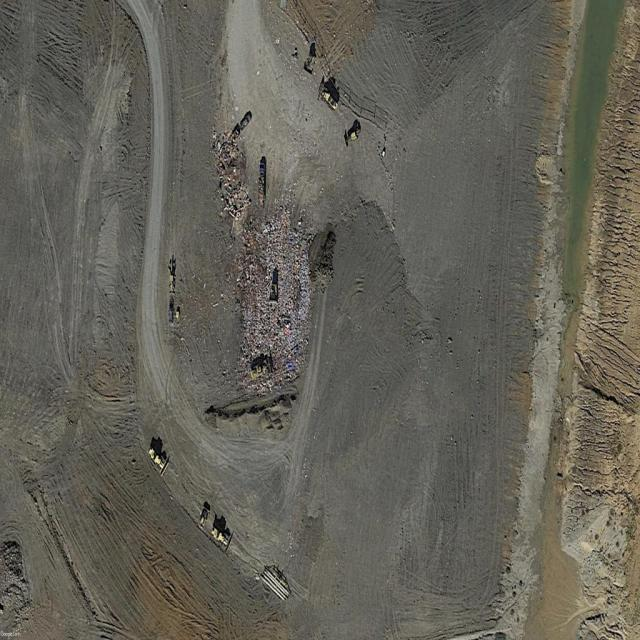dump_site: (235, 207, 311, 396), (206, 120, 262, 245)
